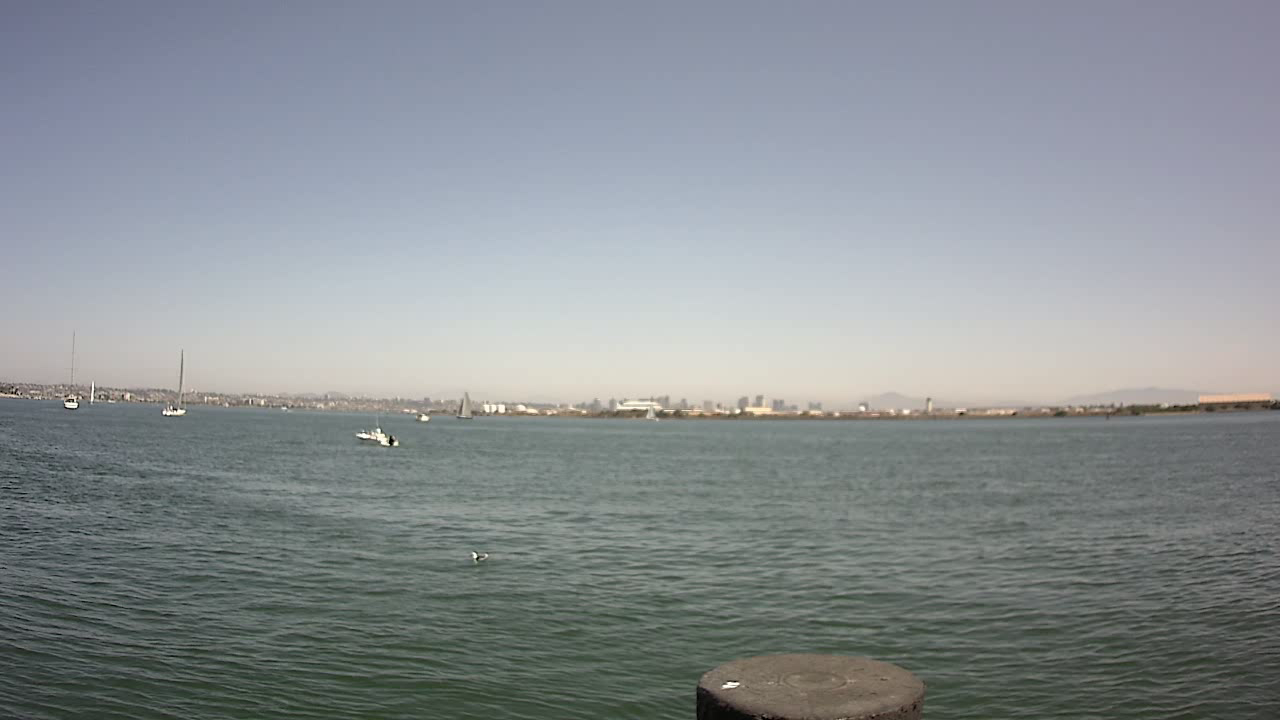target: (347, 416, 408, 455)
